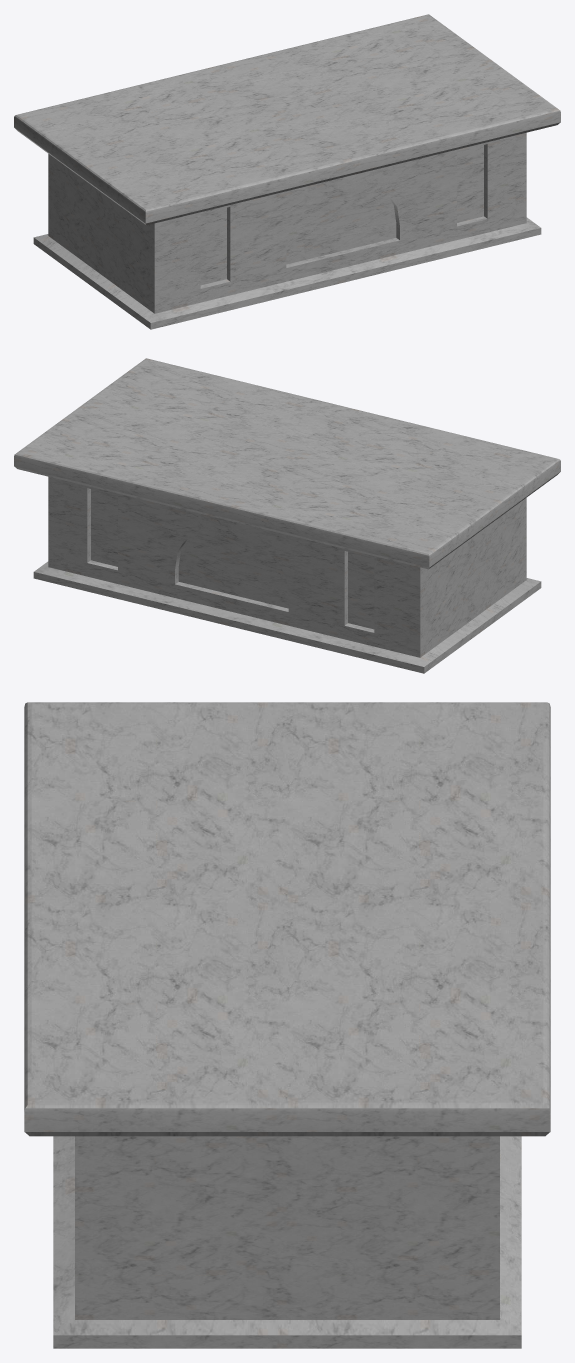
File: Altar.fbx
The picture shows the model from 3 angles, top to bottom: view 1: azimuth 30°, elevation 25°; view 2: azimuth 150°, elevation 25°; view 3: azimuth 270°, elevation 25°; orthographic projection. The views are drawn at different scales.
Visible parts, largest first — view 1: Base; view 2: Base; view 3: Base.
Part boxes in pixels (x1,y1,x2,y2): Base: (14, 14, 560, 329); Base: (14, 358, 560, 673); Base: (24, 702, 550, 1348).
Size of the model in its own units: 112 by 32.78 by 61.29.
Materials: 1 (1 with a texture image).
